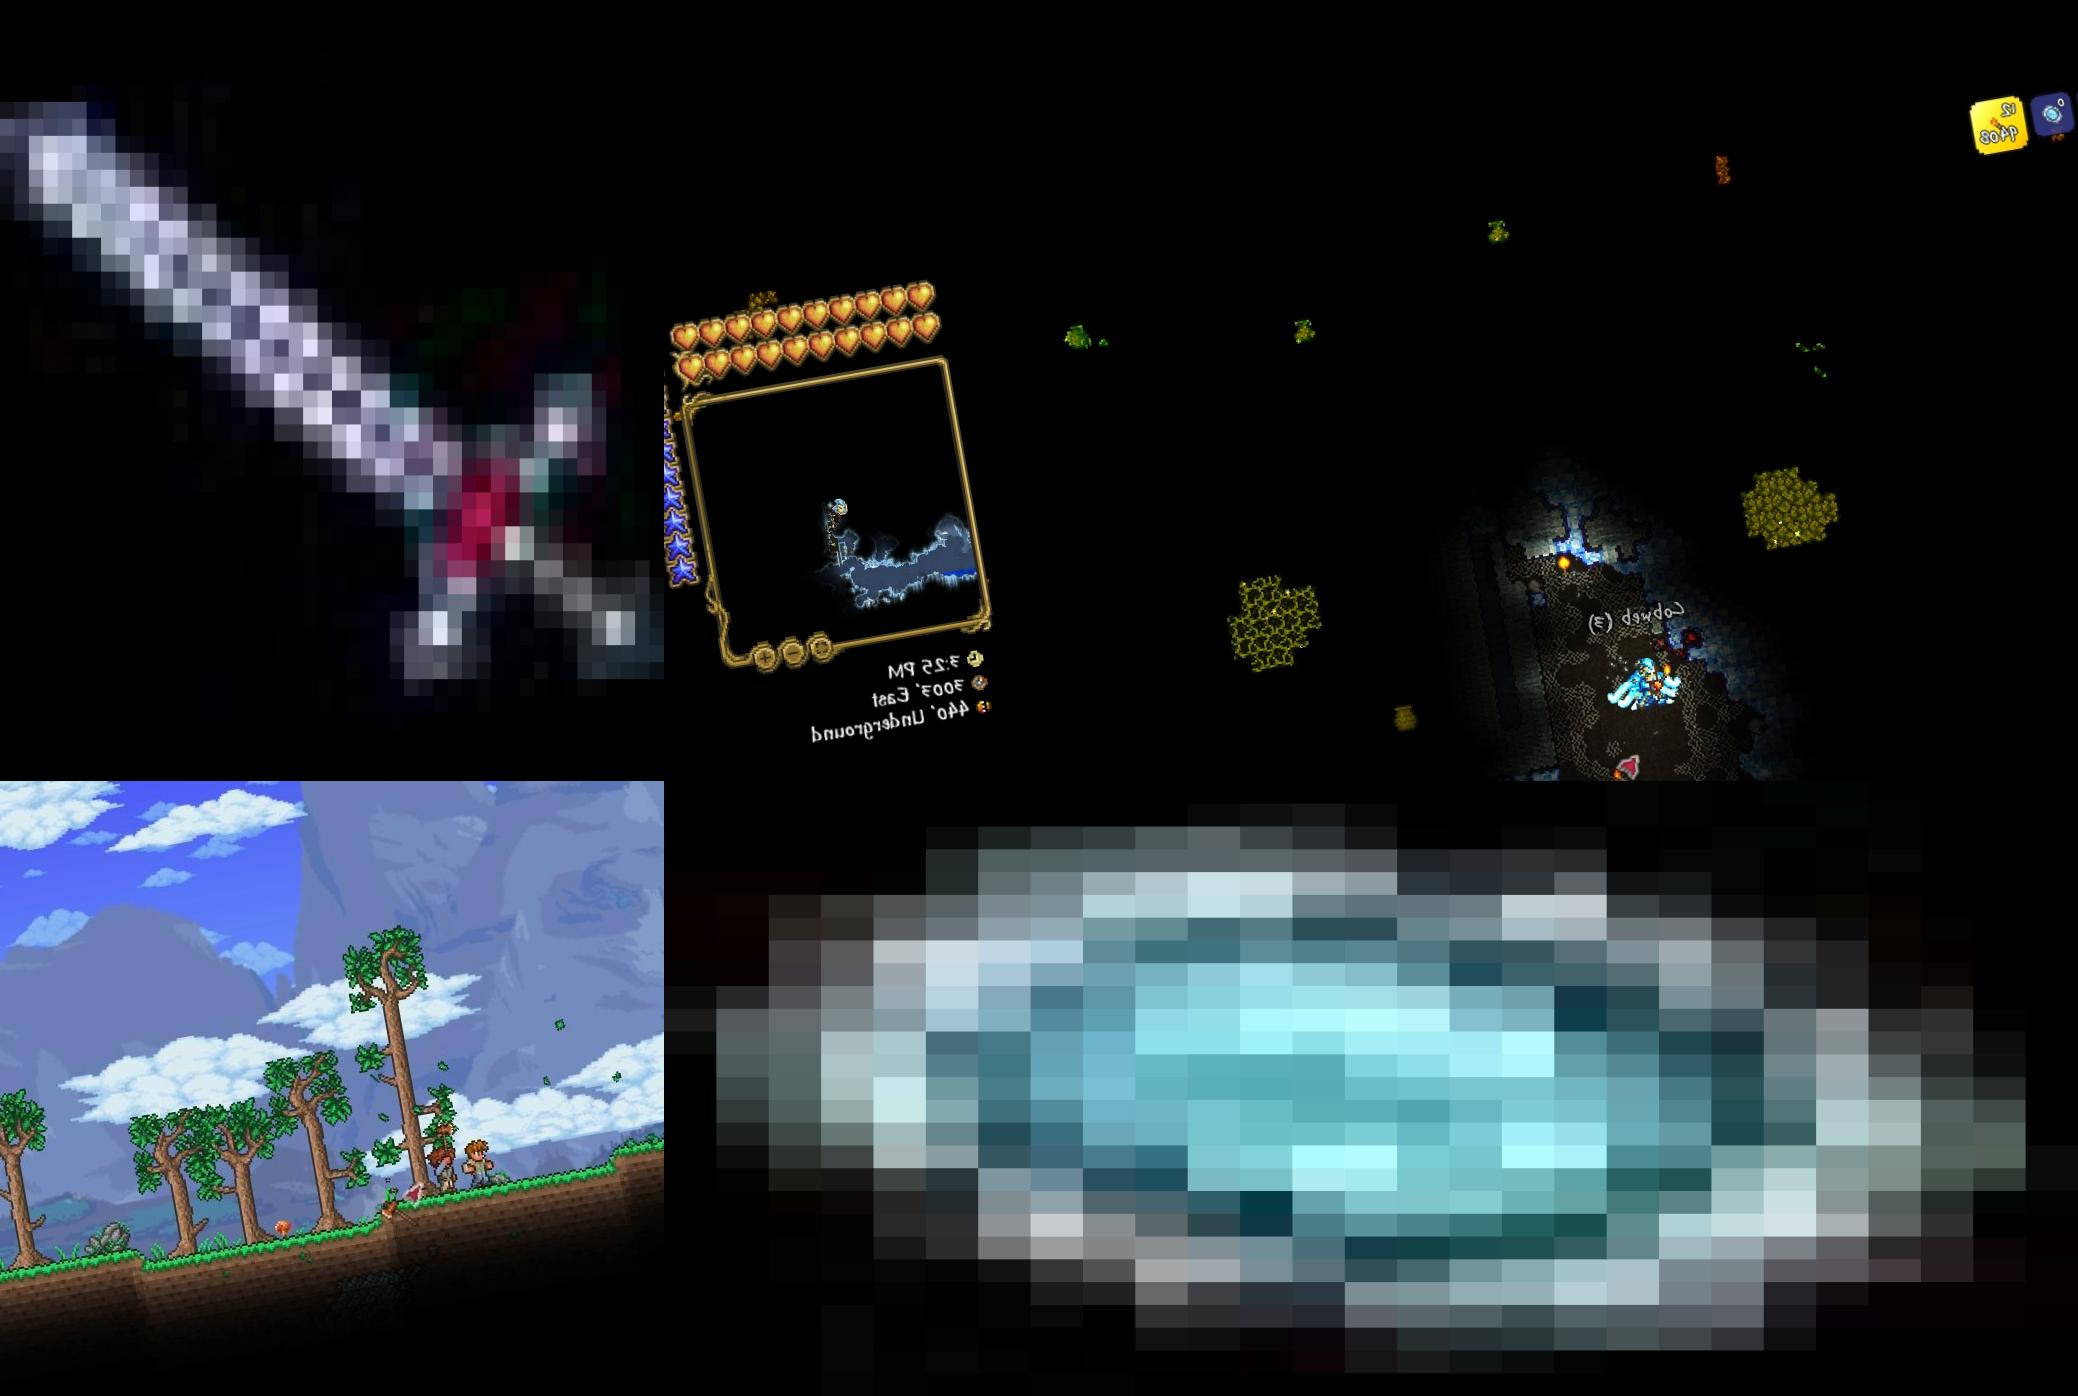cobwebT: (1564, 647, 1592, 668)
mirror: (664, 781, 2078, 1396)
sword: (0, 0, 664, 781)
